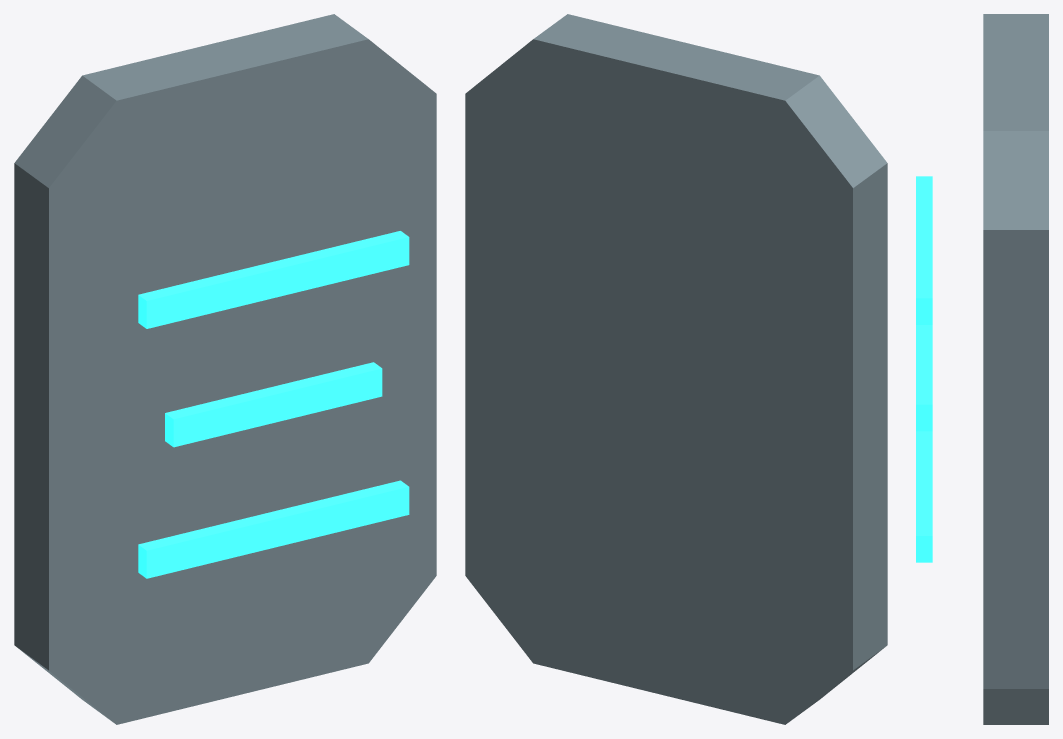
Rendered from City_TransitShelter_RouteDisplay.glb.
3 views of the same model, side by side, from view 1: azimuth 30°, elevation 25°; view 2: azimuth 150°, elevation 25°; view 3: azimuth 270°, elevation 25° (orthographic). The views are drawn at different scales.
Visible parts, largest first — view 1: City_TransitShelter_RouteDisplay; view 2: City_TransitShelter_RouteDisplay; view 3: City_TransitShelter_RouteDisplay.
Boxes of the visible parts, left/top/right/bottom form: City_TransitShelter_RouteDisplay: left=14, top=14, right=436, bottom=724; City_TransitShelter_RouteDisplay: left=465, top=14, right=887, bottom=724; City_TransitShelter_RouteDisplay: left=916, top=14, right=1048, bottom=724.
Bounding box in the file's own units: 0.65 × 1 × 0.2025.
